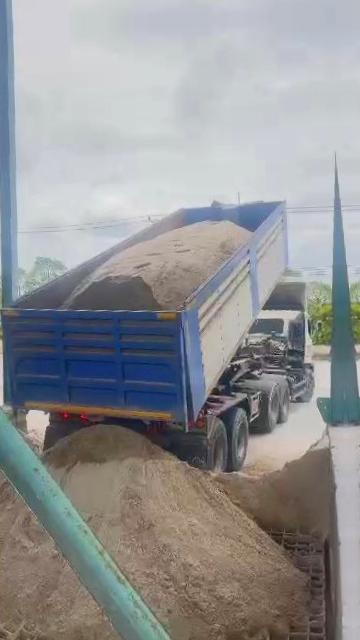sand: (43, 425, 307, 640), (0, 483, 122, 640), (62, 221, 250, 308), (217, 441, 331, 538)
